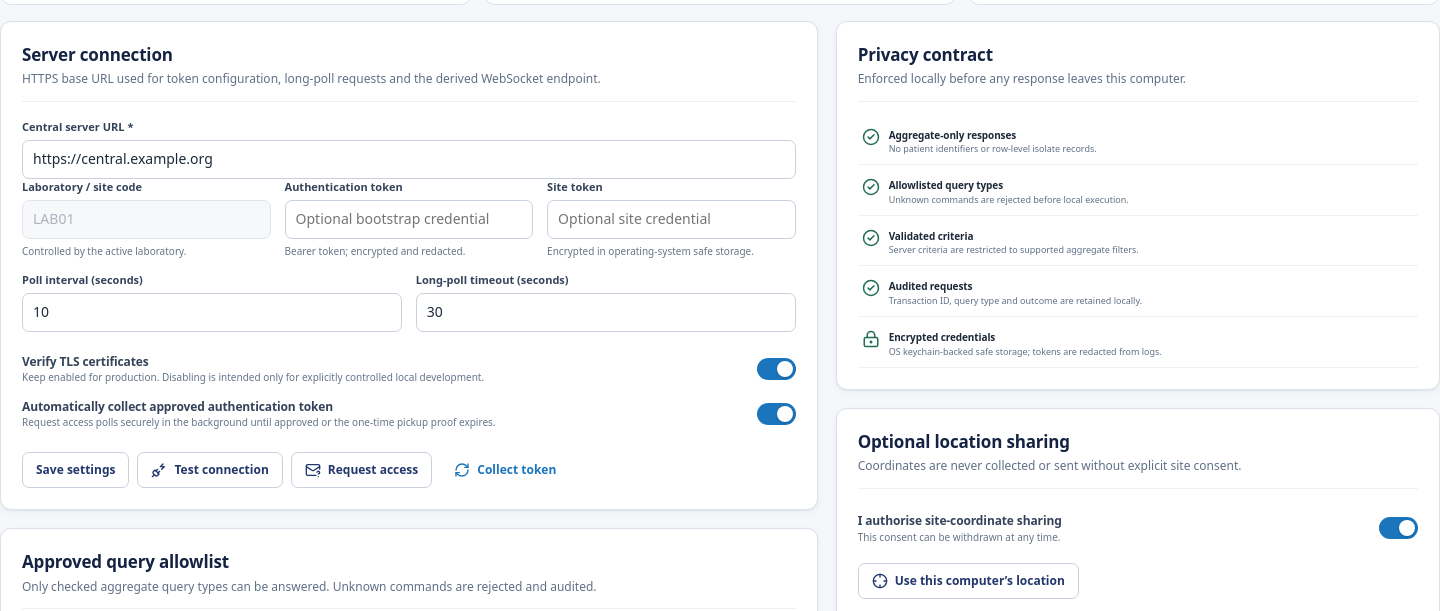
Scenario: SyncPage location › reports a position that could not be determined without blaming the operator
The image size is (1440, 611).
What coordinates should you click on to do the following:
click the button "Use this computer’s location"
I would click on:
 (968, 581)
Its box is [858, 563, 1079, 599].
(page scrolled)
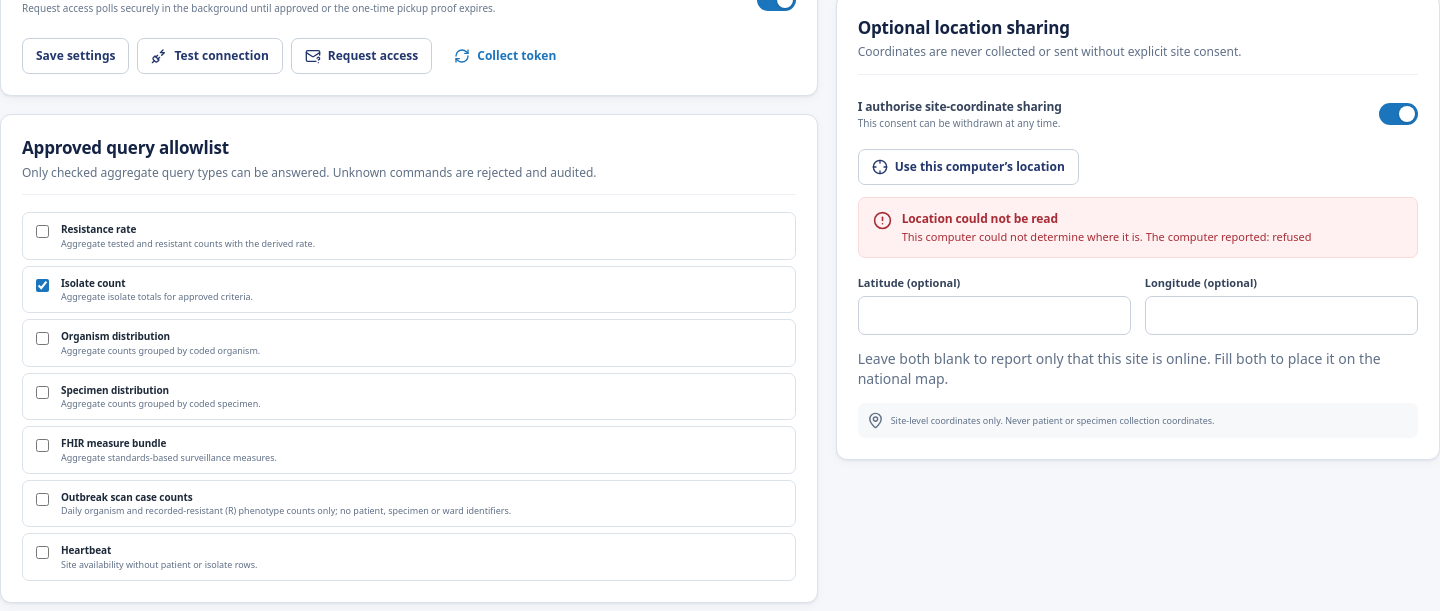
Expected: the text "Location could not be read" is shown, [902, 210, 1058, 227]
